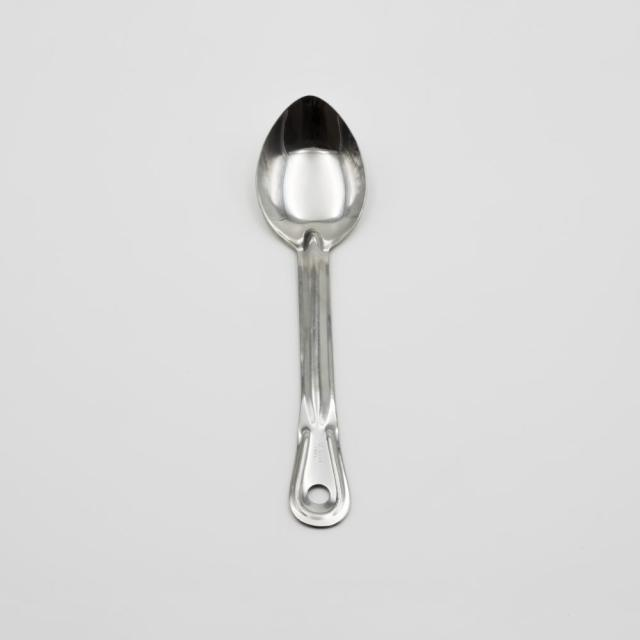spoon: (234, 72, 393, 542)
